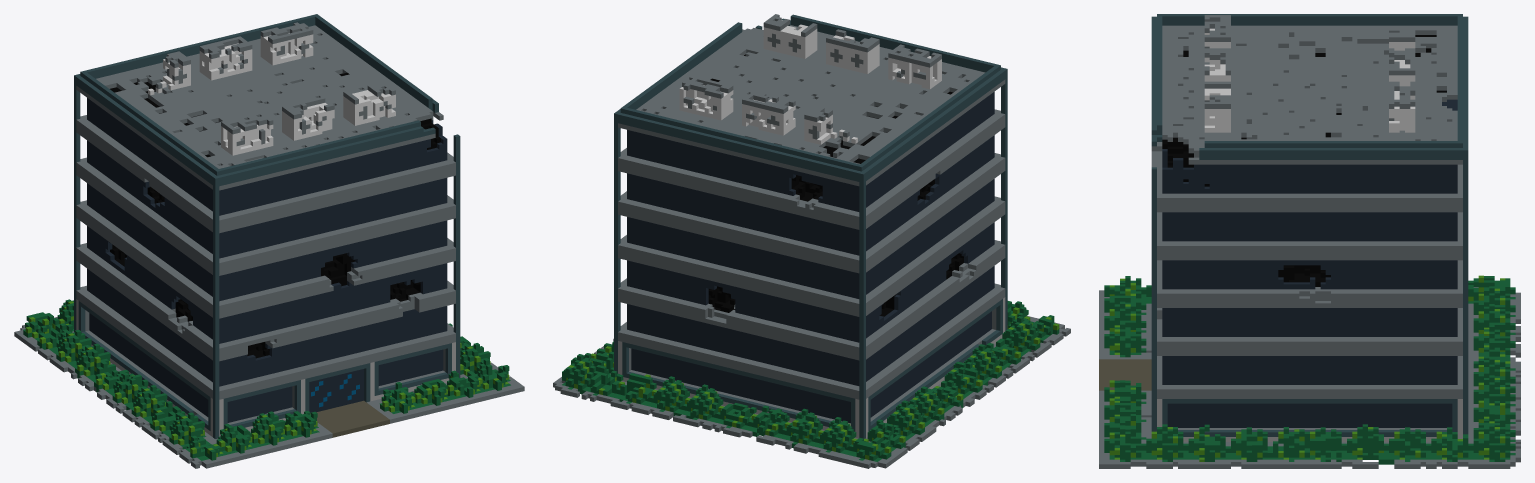
Rendered from building_big_1_damaged.obj.
3 views of the same model, side by side, from view 1: azimuth 30°, elevation 25°; view 2: azimuth 150°, elevation 25°; view 3: azimuth 270°, elevation 25° (orthographic). The views are drawn at different scales.
Size of the model in its own units: 8 by 6.7 by 8.
Materials: 1 (1 with a texture image).
